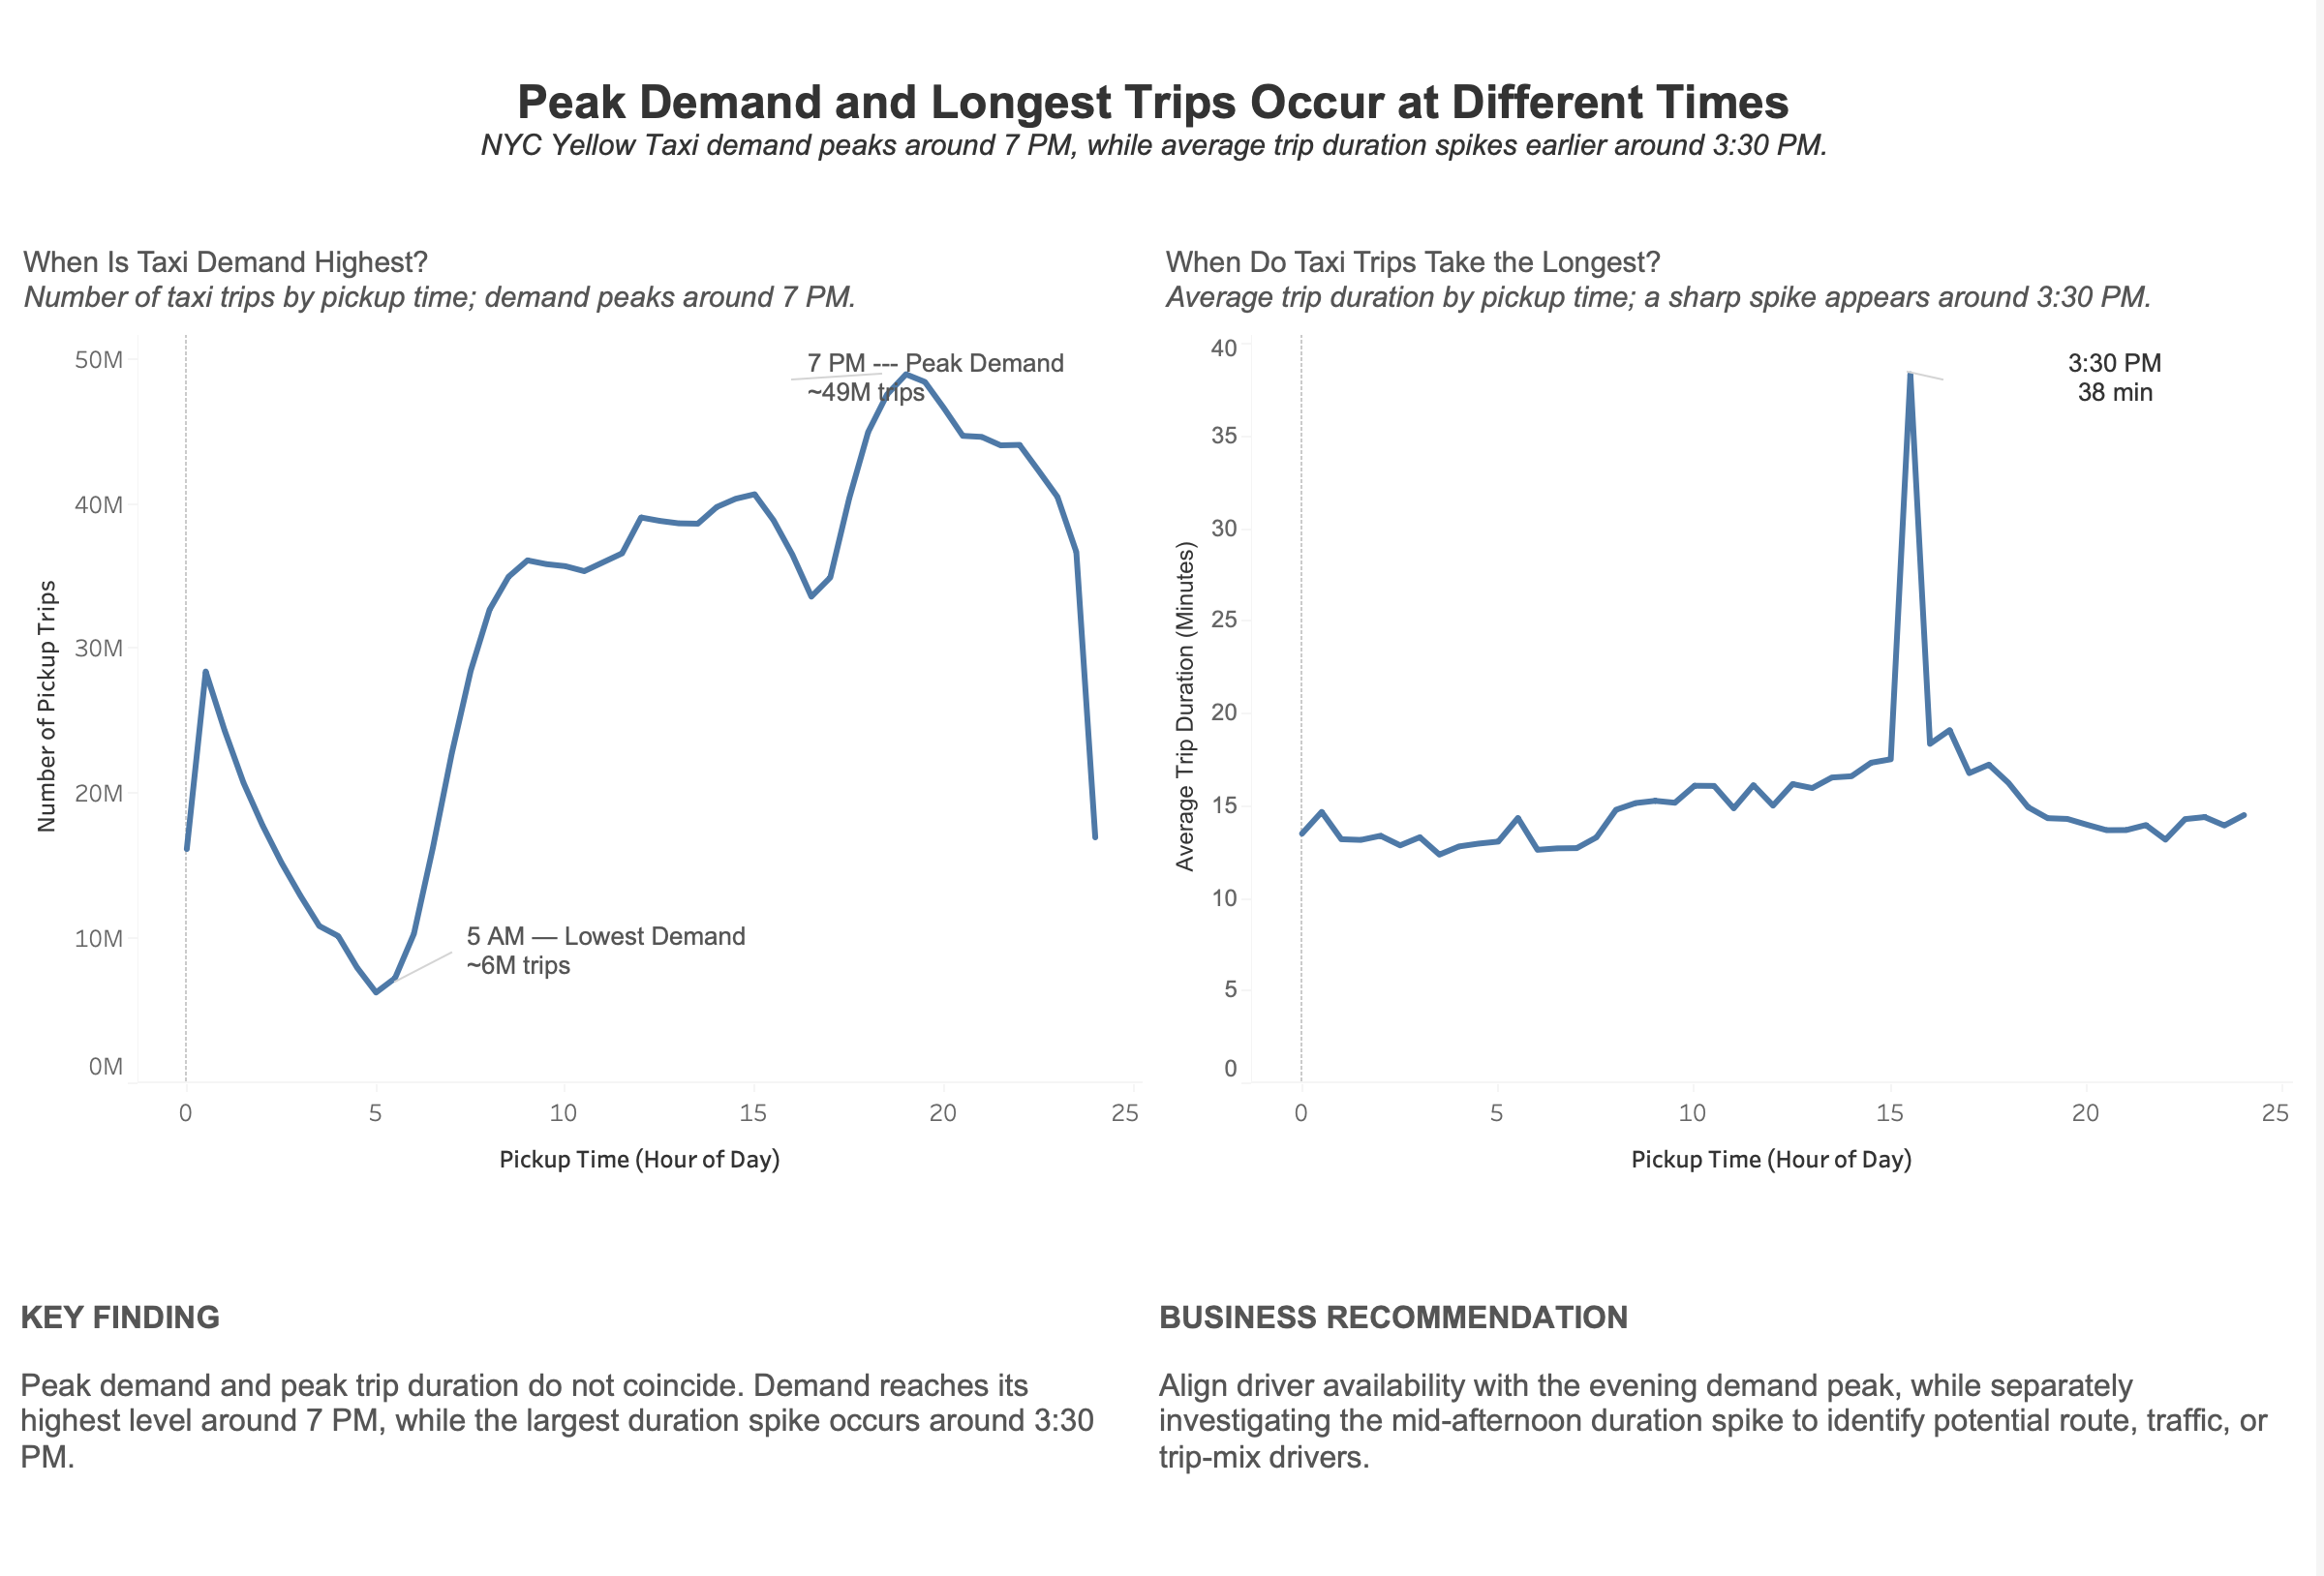

This screenshot's page, from the dashboard's own definition file:
{"tool":"tableau","page":{"name":"Dashboard 2","canvas":[1000,1000],"units":"permille","ordinal":1},"visuals":[{"type":"text","box":[6.7,10,986.7,143.8]},{"type":"worksheet","title":"Trips by Time of Day","mark":"Automatic","rows":["trips"],"cols":["time_of_day"],"box":[6.7,153.8,491.7,596.4]},{"type":"worksheet","title":"Trip Duration by Time of Day","mark":"Automatic","rows":["duration"],"cols":["time_of_day"],"box":[498.3,153.8,495,596.4]},{"type":"text","box":[6.7,750.1,490,239.9]},{"type":"text","box":[496.7,750.1,496.7,239.9]}]}

Visuals, with their boxes on the dashboard's canvas, which has no fixed pixel size, in thousandths of its width and height (x1, y1, x2, y2). These are canvas units, not pixel positions in the 2324x1576 screenshot, which may show the page scaled, cropped or inside an application window:
text: (7, 10, 993, 154)
"Trips by Time of Day" worksheet: (7, 154, 498, 750)
"Trip Duration by Time of Day" worksheet: (498, 154, 993, 750)
text: (7, 750, 497, 990)
text: (497, 750, 993, 990)
